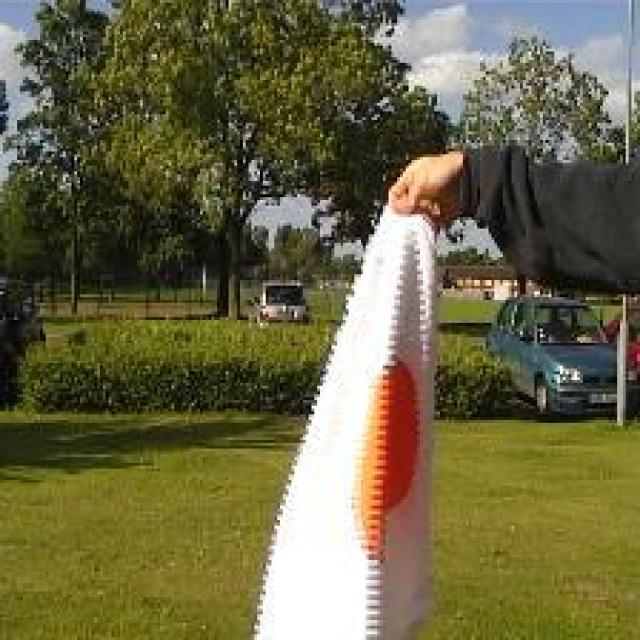other: (351, 344, 432, 555)
